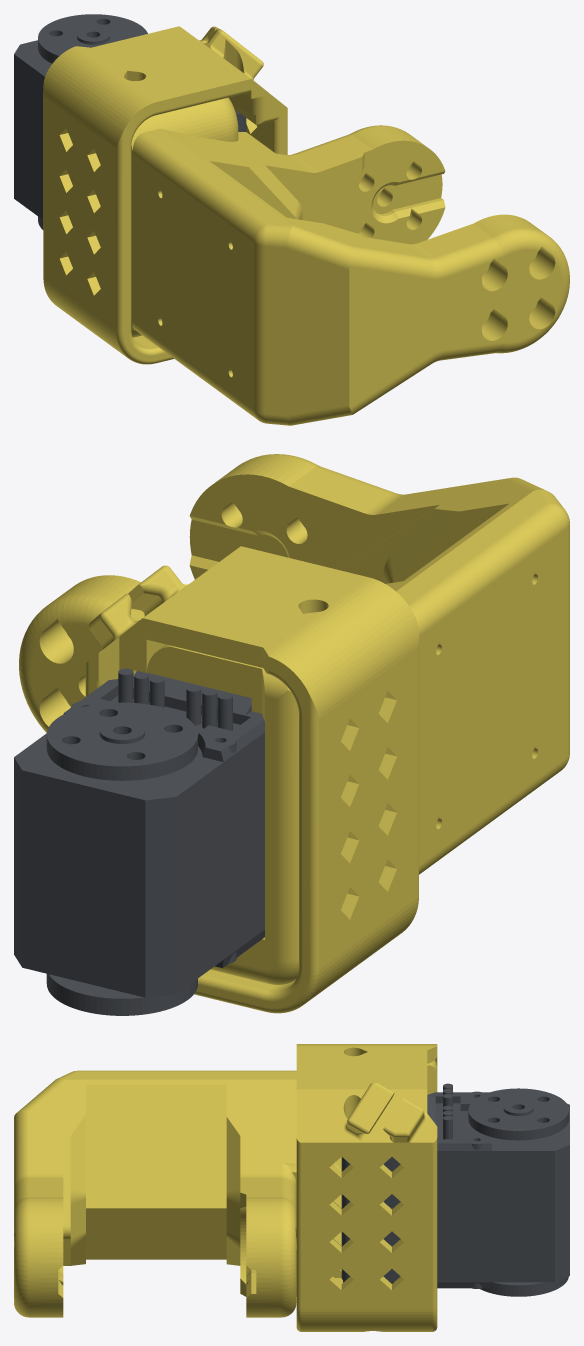
Rendered from shoulder_link.glb.
The picture shows the model from 3 angles, top to bottom: view 1: azimuth 30°, elevation 25°; view 2: azimuth 150°, elevation 25°; view 3: azimuth 270°, elevation 25°; orthographic projection. The views are drawn at different scales.
Parts seen in each view (by area): view 1: shoulder_link_2, shoulder_link_1, shoulder_link_0; view 2: shoulder_link_2, shoulder_link_0, shoulder_link_1; view 3: shoulder_link_2, shoulder_link_1, shoulder_link_0.
Part boxes in pixels (box(x1,y1,x2,y2)): shoulder_link_2: box(131, 97, 569, 425); shoulder_link_1: box(43, 26, 287, 364); shoulder_link_0: box(14, 14, 246, 229); shoulder_link_2: box(19, 454, 569, 984); shoulder_link_0: box(14, 668, 264, 1015); shoulder_link_1: box(85, 546, 418, 1013); shoulder_link_2: box(14, 1060, 437, 1317); shoulder_link_1: box(296, 1044, 437, 1331); shoulder_link_0: box(341, 1083, 569, 1296).
Bounding box in the file's own units: 0.0628 × 0.0551 × 0.1106.
